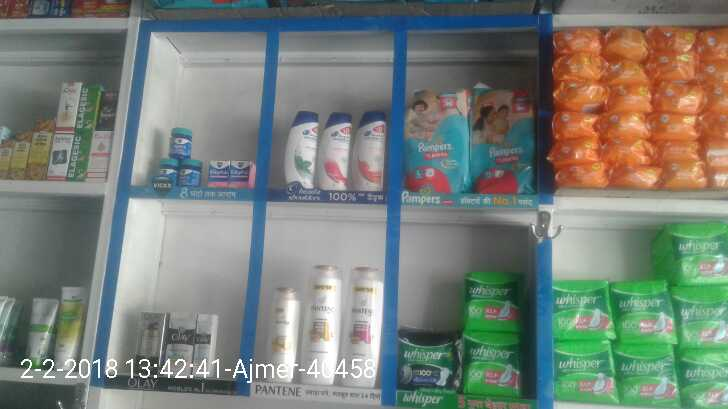vicks: (153, 122, 258, 190)
